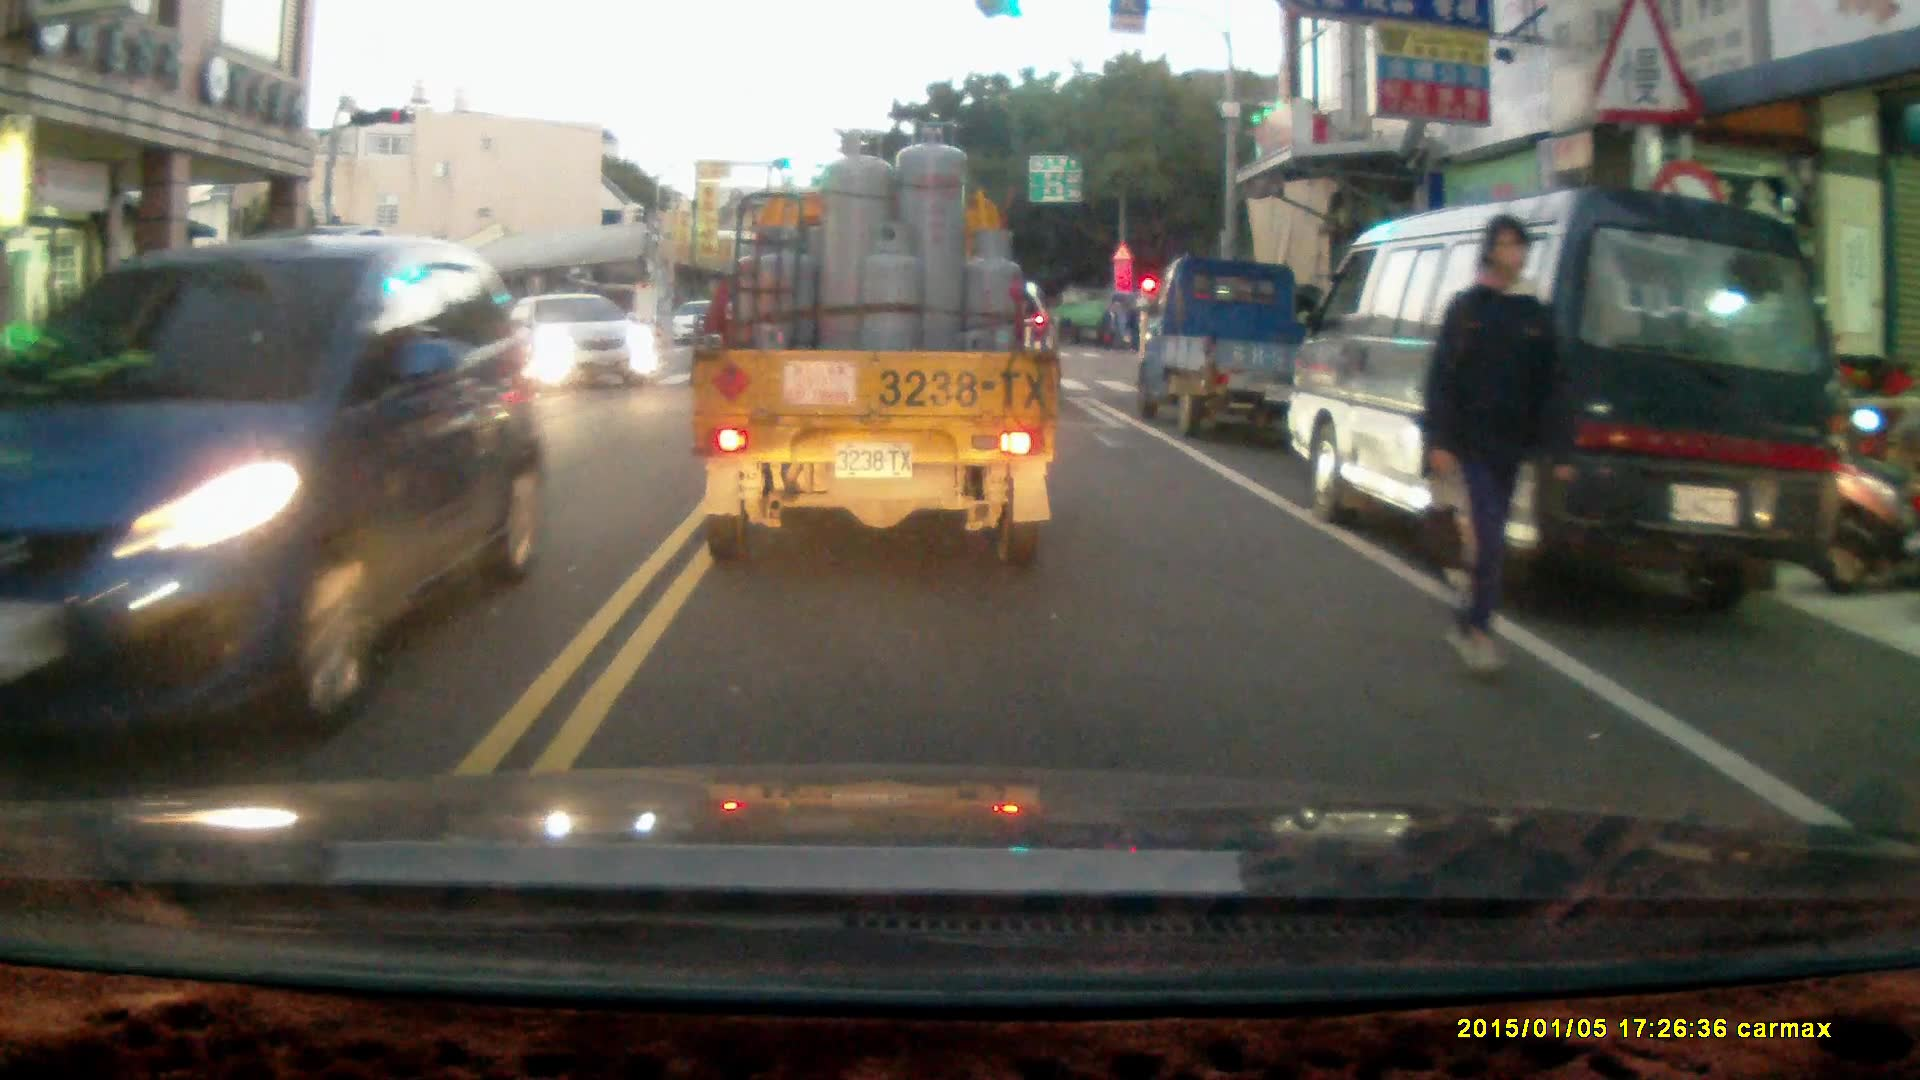pedestrian: (1418, 217, 1561, 678)
vehicle: (14, 233, 525, 776), (1289, 182, 1850, 617), (689, 123, 1058, 566), (256, 298, 519, 439), (1137, 250, 1316, 434), (494, 295, 658, 395)
